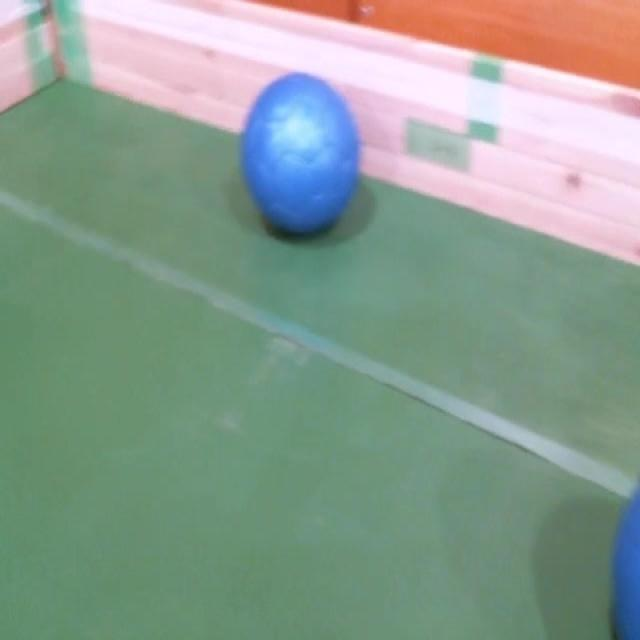blue_ball: (240, 72, 361, 238), (609, 462, 639, 640)
